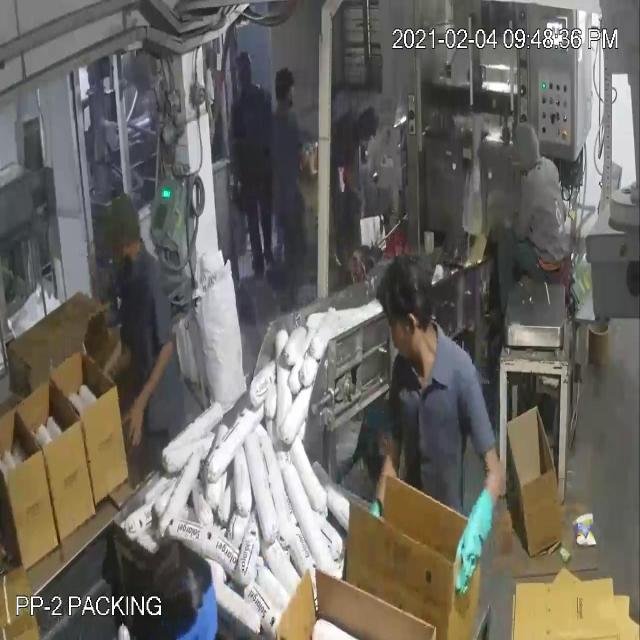gloves: (436, 470, 502, 602)
no-gloves: (110, 333, 198, 455)
